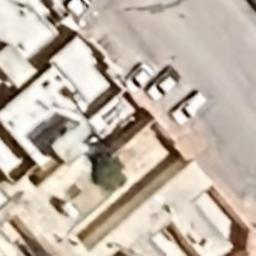SUV: (168, 89, 208, 127)
sedan: (146, 62, 182, 102), (125, 60, 157, 96)
